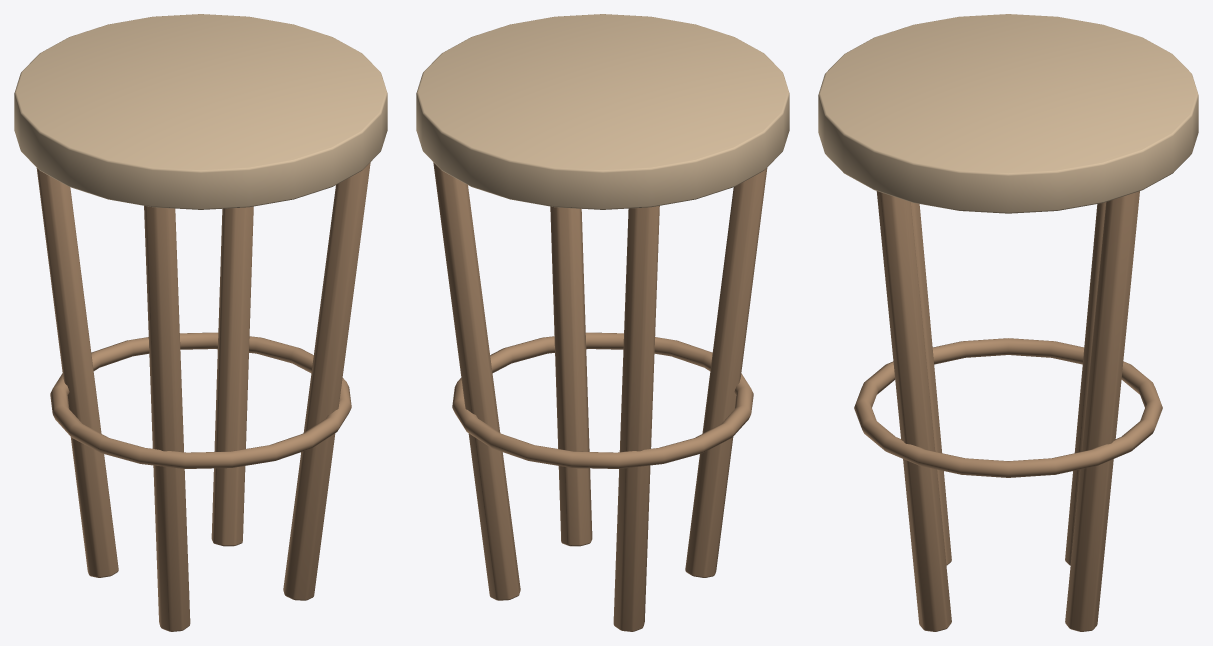
Rendered from v2_stool.fbx.
3 renders of one model, left to right at view 1: azimuth 30°, elevation 25°; view 2: azimuth 150°, elevation 25°; view 3: azimuth 270°, elevation 25°, orthographic.
Visible parts, largest first — view 1: Seat, Leg.003, Leg.002, Leg.001, Leg, Ring; view 2: Seat, Leg, Leg.001, Leg.002, Leg.003, Ring; view 3: Seat, Leg.003, Leg, Ring, Leg.001, Leg.002.
Boxes of the visible parts, x1,y1,x2,y2 form: Seat: [14, 14, 387, 209]; Leg.003: [283, 162, 370, 600]; Leg.002: [144, 206, 190, 631]; Leg.001: [36, 168, 118, 577]; Leg: [211, 206, 253, 546]; Ring: [50, 332, 351, 468]; Seat: [416, 14, 789, 209]; Leg: [433, 162, 520, 600]; Leg.001: [613, 206, 659, 631]; Leg.002: [685, 168, 767, 577]; Leg.003: [550, 206, 592, 546]; Ring: [452, 332, 753, 468]; Seat: [818, 14, 1198, 213]; Leg.003: [876, 191, 951, 631]; Leg: [1065, 191, 1139, 631]; Ring: [854, 338, 1162, 477]; Leg.001: [1065, 202, 1106, 565]; Leg.002: [911, 202, 951, 565].
Size of the model in its own units: 0.34 by 0.4948 by 0.34.
